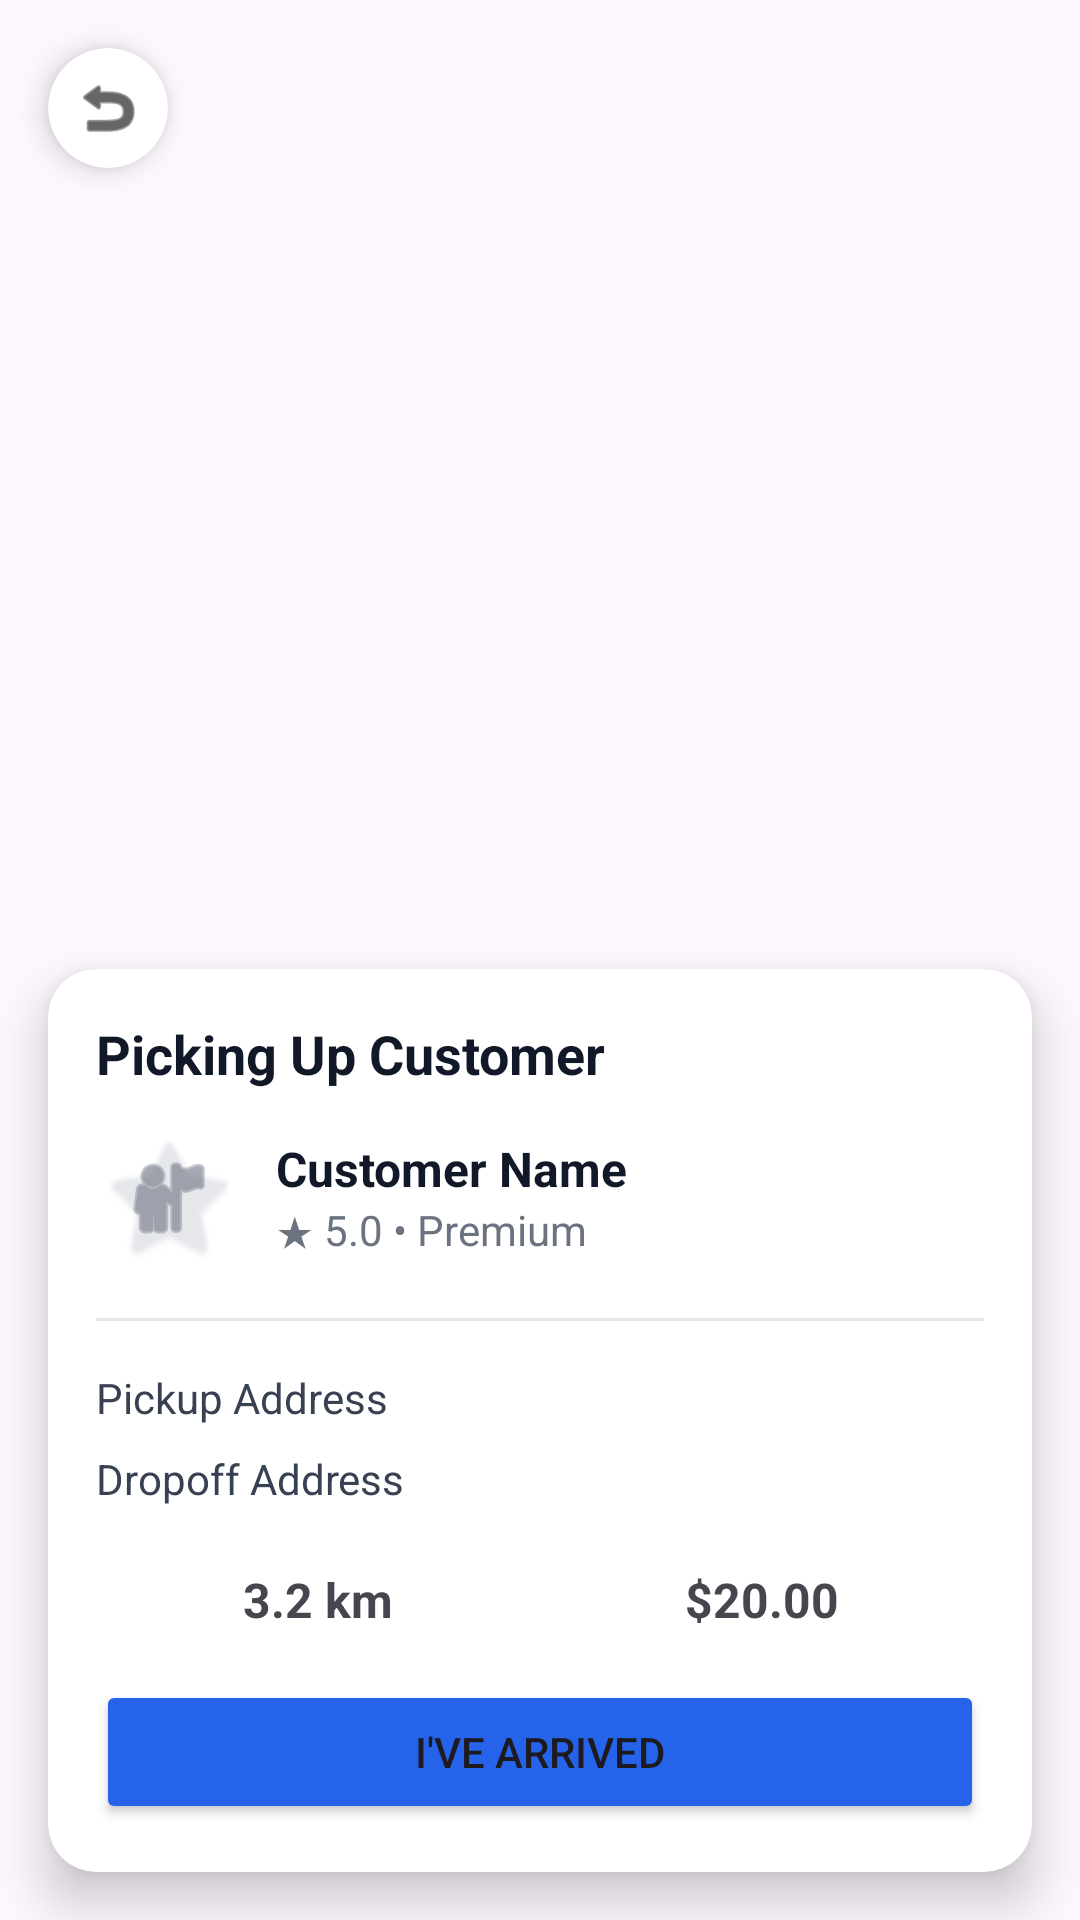

Named icons in this screenshot (1080px x 1920px) and their bounding boxes, (x1, y1, x2, y2):
myplaces: (116, 1147, 223, 1249)
revert: (48, 48, 168, 168)
